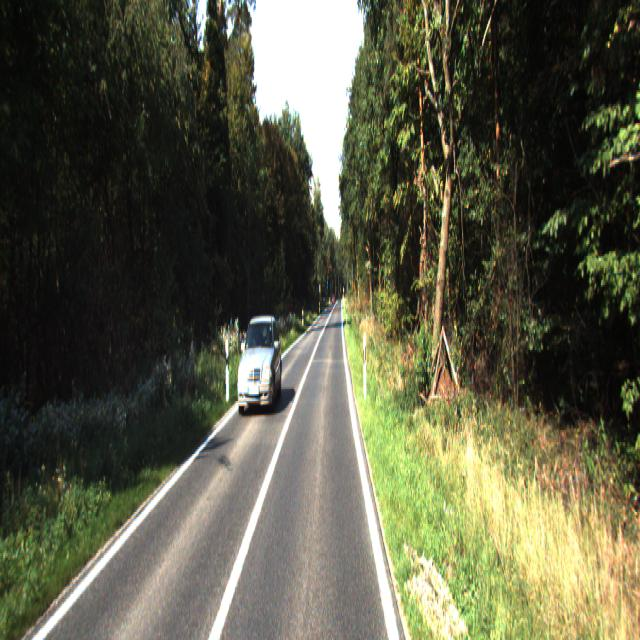Car: (235, 312, 284, 418)
